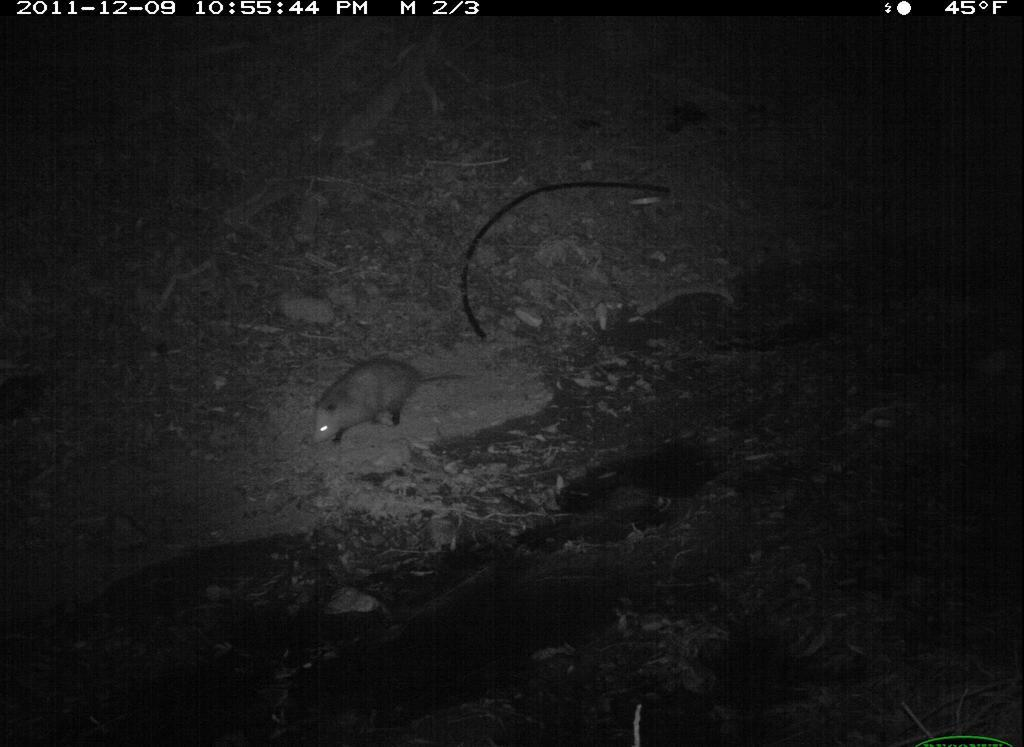opossum: (301, 353, 469, 454)
